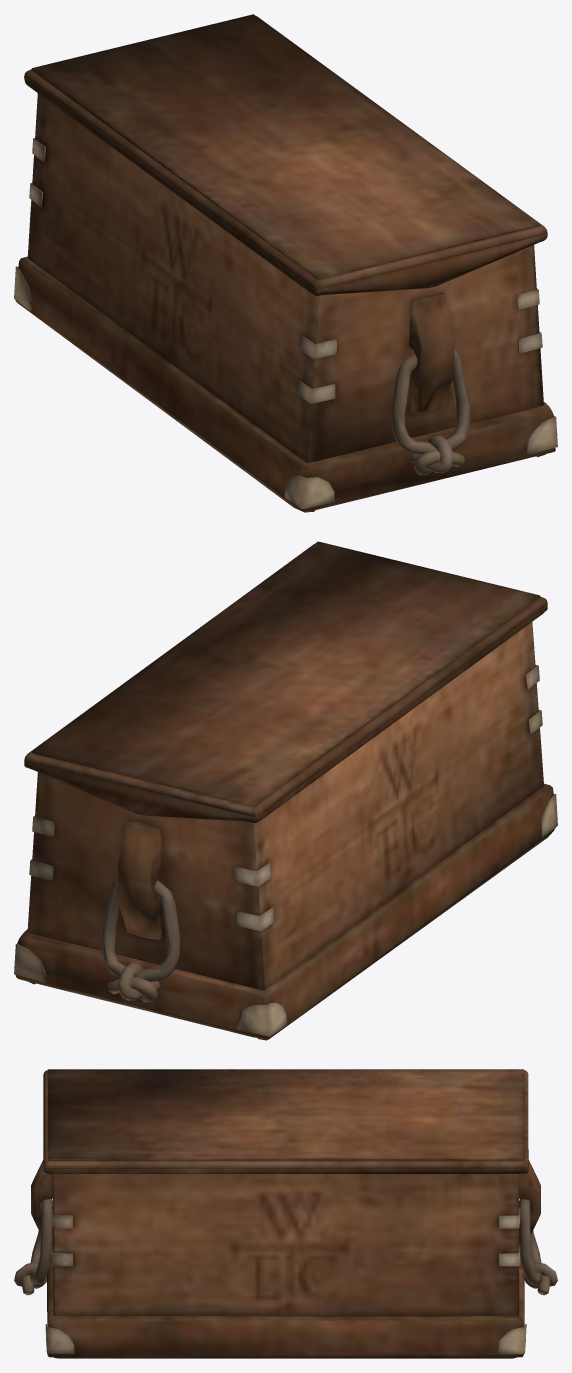
Rendered from th_holzkiste.glb.
3 views of the same model, one above another, from view 1: azimuth 30°, elevation 25°; view 2: azimuth 150°, elevation 25°; view 3: azimuth 270°, elevation 25° (orthographic). The views are drawn at different scales.
Parts seen in each view (by area): view 1: wooden_crate_02_crate, wooden_crate_02_lid; view 2: wooden_crate_02_crate, wooden_crate_02_lid; view 3: wooden_crate_02_crate, wooden_crate_02_lid.
Boxes of the visible parts, left/top/right/bottom form: wooden_crate_02_crate: left=14, top=93, right=557, bottom=512; wooden_crate_02_lid: left=24, top=14, right=547, bottom=295; wooden_crate_02_crate: left=14, top=622, right=557, bottom=1040; wooden_crate_02_lid: left=24, top=541, right=547, bottom=822; wooden_crate_02_crate: left=14, top=1160, right=557, bottom=1358; wooden_crate_02_lid: left=43, top=1069, right=528, bottom=1173.
Bounding box in the file's own units: 0.5291 × 0.464 × 1.17.
1 material, 1 textured.
